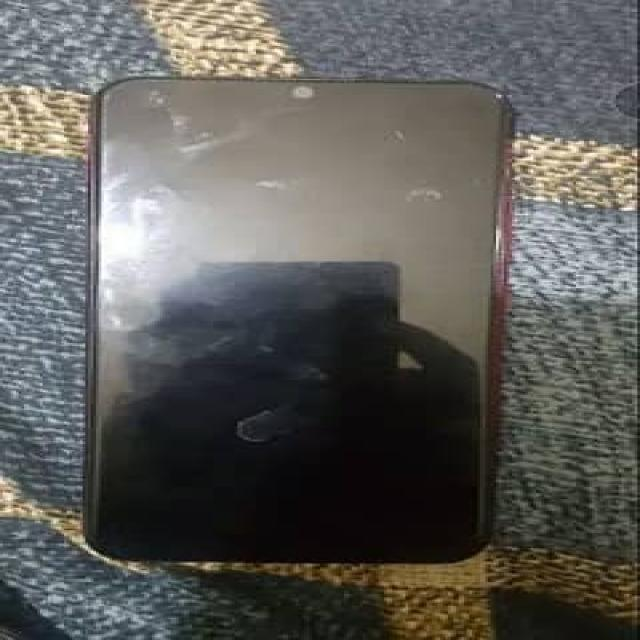mobile phone: (80, 74, 515, 566)
